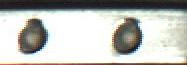joints: (0, 10, 51, 56), (106, 12, 146, 57)
